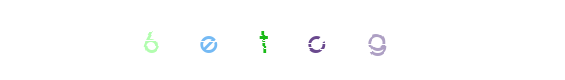6: (126, 0, 206, 80)
C: (260, 0, 340, 80)
E: (224, 0, 304, 80)
G: (275, 0, 355, 80)
T: (242, 0, 322, 80)
